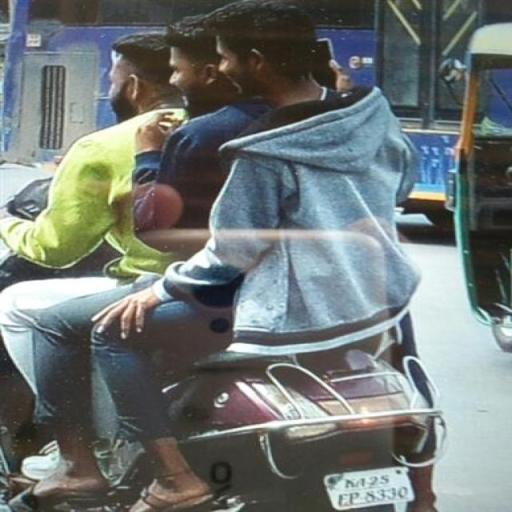tripple riding: (0, 0, 425, 286)
